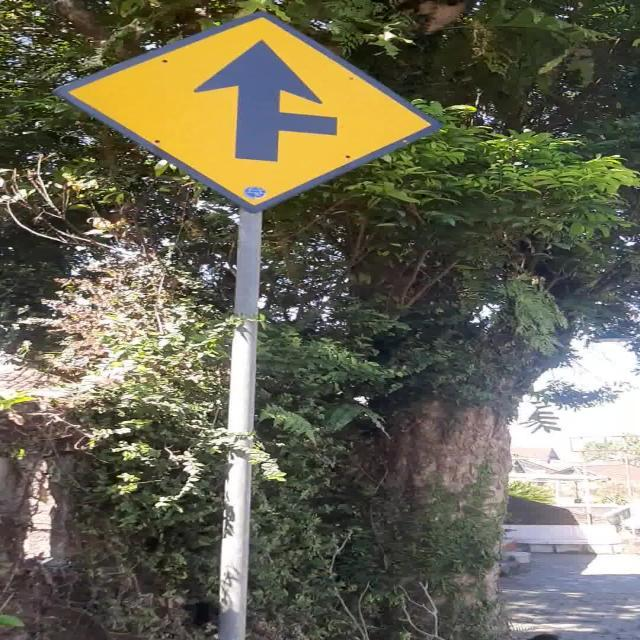Persimpangan 3 Prioritas Kanan: (51, 10, 445, 214)
